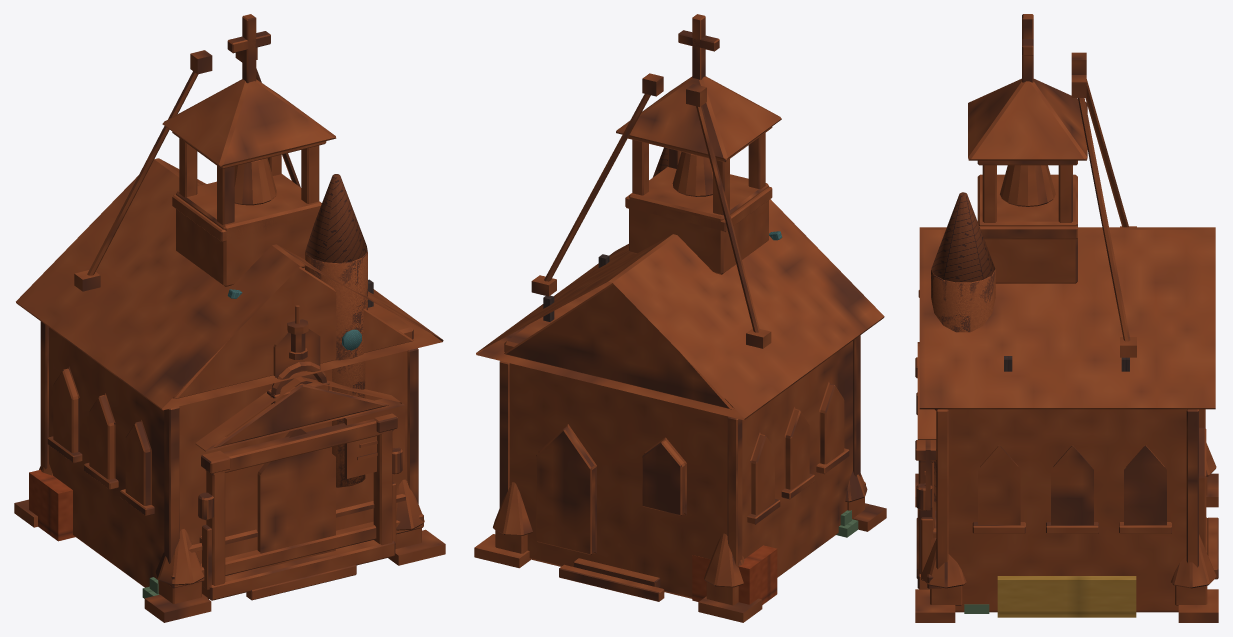
File: chapel.e10.glb
3 views of the same model, side by side, from view 1: azimuth 30°, elevation 25°; view 2: azimuth 150°, elevation 25°; view 3: azimuth 270°, elevation 25° (orthographic). The views are drawn at different scales.
Parts seen in each view (by area): view 1: ChapelE10PanShrine; view 2: ChapelE10PanShrine; view 3: ChapelE10PanShrine.
Part boxes in pixels (<box>): ChapelE10PanShrine: <box>14,14,445,622</box>; ChapelE10PanShrine: <box>474,14,886,622</box>; ChapelE10PanShrine: <box>915,14,1218,622</box>.
Size of the model in its own units: 3.46 by 6.25 by 3.19.
Materials: 1 (1 with a texture image).
